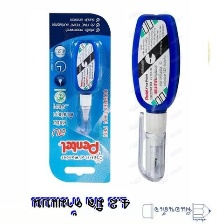book: (45, 11, 115, 186)
correction_fluid: (128, 12, 184, 184), (71, 40, 101, 136)
